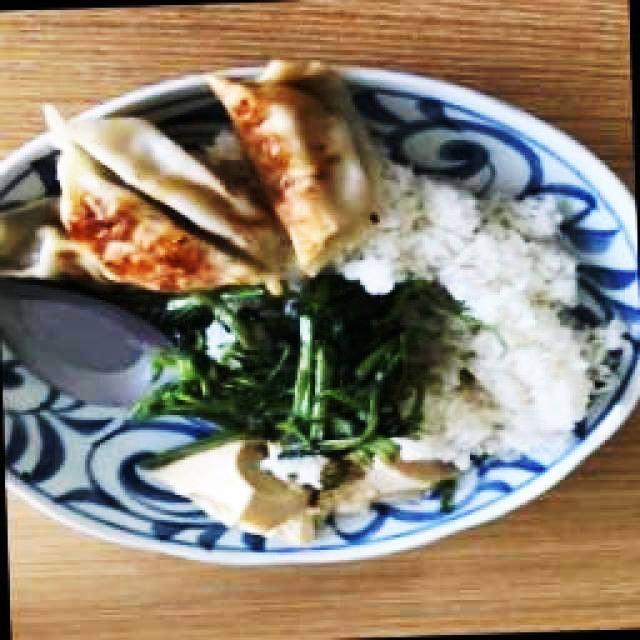fried_dumplings: (46, 100, 290, 265), (206, 59, 367, 273), (56, 154, 280, 292)
rice: (334, 156, 623, 470)
water_spinach: (140, 287, 452, 444)
